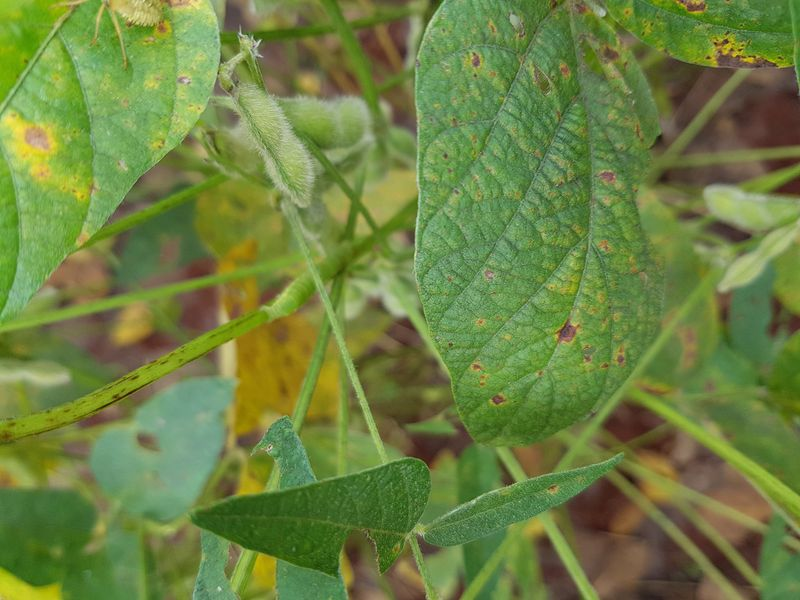Anticarsia_gemmatalis: (254, 231, 365, 331)
